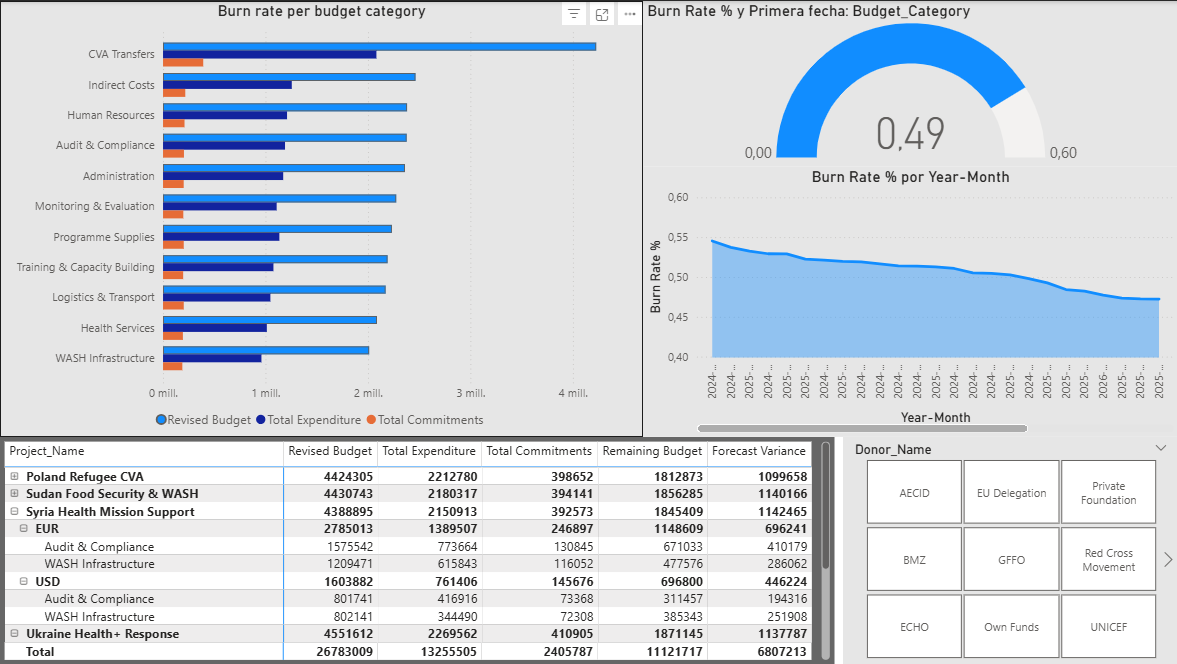

Layout of this report page (visuals, bound fields, positions):
{"tool":"powerbi","page":{"name":"Burn rate","canvas":[1280,720],"ordinal":1},"visuals":[{"type":"clusteredBarChart","title":"Burn rate per budget category","fields":{"Category":["dim_budget_lines.Budget_Category"],"Y":["humanitarian_finance_fact.Revised Budget","humanitarian_finance_fact.Total Expenditure","humanitarian_finance_fact.Total Commitments"]},"box":[0,0,698.6,472.9],"z":0},{"type":"lineChart","fields":{"Category":["dates_table.Year-Month"],"Y":["humanitarian_finance_fact.Burn Rate %"]},"box":[698.6,180,581.4,292.9],"z":1000},{"type":"pivotTable","fields":{"Rows":["humanitarian_finance_fact.Project_Name","humanitarian_finance_fact.Currency","humanitarian_finance_fact.Budget_Category"],"Values":["humanitarian_finance_fact.Revised Budget","humanitarian_finance_fact.Total Expenditure","humanitarian_finance_fact.Total Commitments","humanitarian_finance_fact.Remaining Budget","humanitarian_finance_fact.Forecast Variance"]},"box":[0,472.9,905.7,247.1],"z":2000},{"type":"slicer","fields":{"Values":["humanitarian_finance_fact.Donor_Name"]},"box":[915.7,472.9,364.3,247.1],"z":3000},{"type":"gauge","fields":{"Y":["humanitarian_finance_fact.Burn Rate %"]},"box":[698.6,0,581.4,180],"z":4000}]}

Visuals, with their boxes in screenshot pixels (x1, y1, x2, y2), scaled from the page's 1280x720 canvas onto the 1177x664 screenshot:
"Burn rate per budget category" clusteredBarChart: 0, 0, 642, 436
lineChart - dates_table.Year-Month x humanitarian_finance_fact.Burn Rate %: 642, 166, 1176, 436
pivotTable - humanitarian_finance_fact.Project_Name x humanitarian_finance_fact.Currency: 0, 436, 833, 663
slicer - humanitarian_finance_fact.Donor_Name: 842, 436, 1176, 663
gauge - humanitarian_finance_fact.Burn Rate %: 642, 0, 1176, 166
